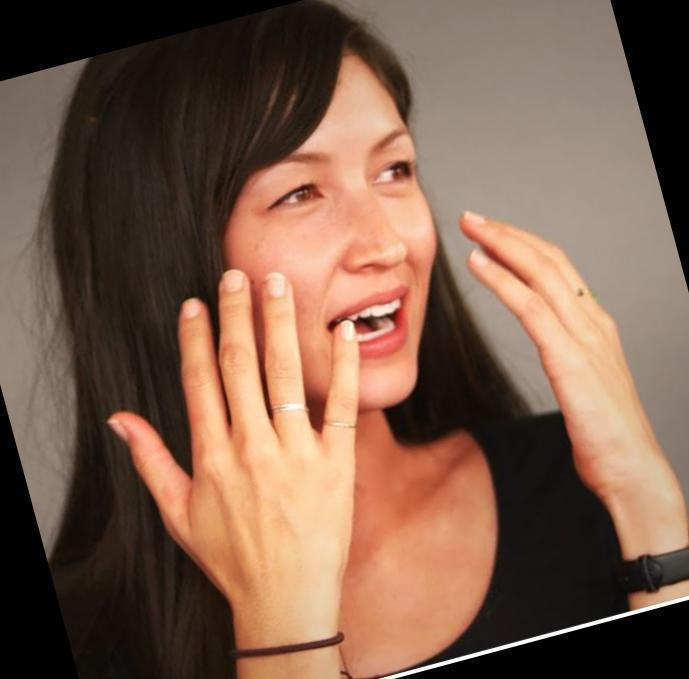Drunk: (238, 55, 436, 407)
